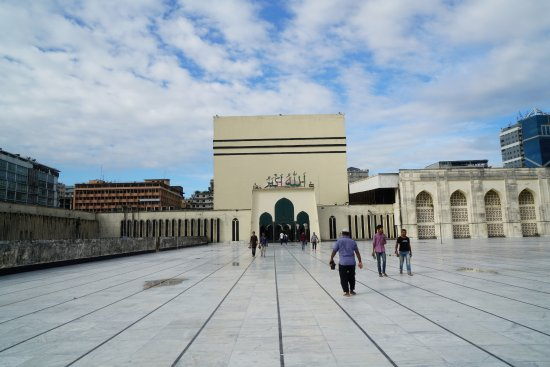Mosque: (200, 111, 357, 246)
